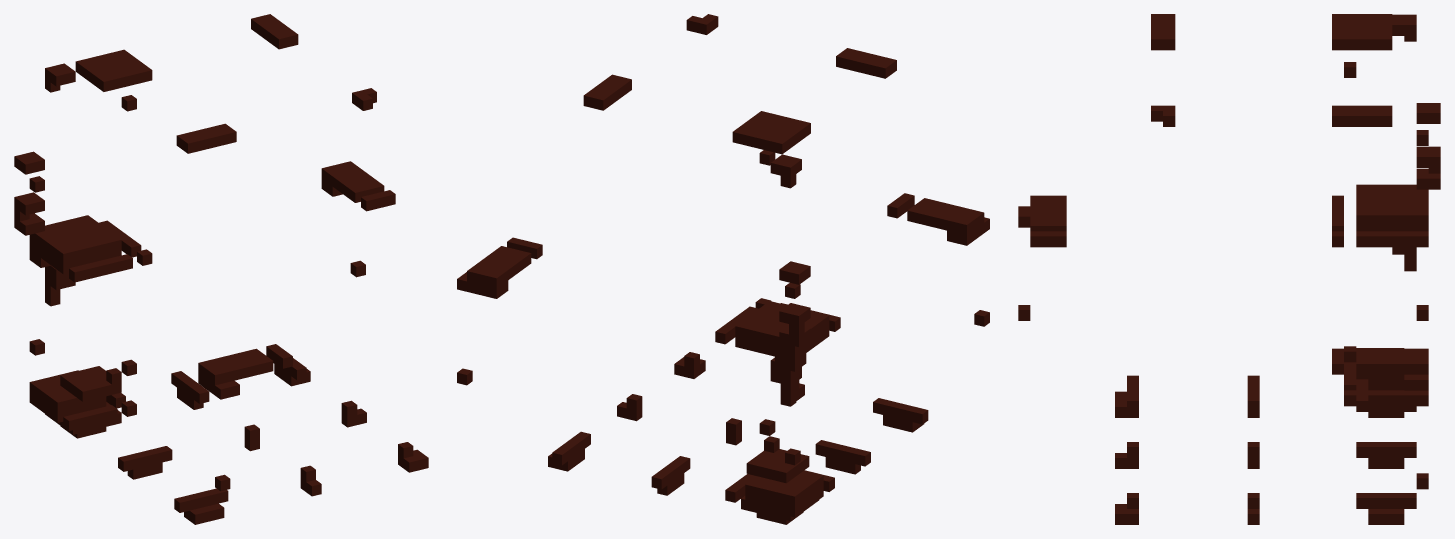
File: explosion_06.obj
3 views of the same model, side by side, from view 1: azimuth 30°, elevation 25°; view 2: azimuth 150°, elevation 25°; view 3: azimuth 270°, elevation 25° (orthographic). The views are drawn at different scales.
Visible parts, largest first — view 1: explosion_06; view 2: explosion_06; view 3: explosion_06.
Boxes of the visible parts, <box> form: explosion_06: <box>14,14,428,524</box>; explosion_06: <box>457,14,989,524</box>; explosion_06: <box>1018,14,1440,524</box>.
Size of the model in its own units: 35 by 36 by 35.
